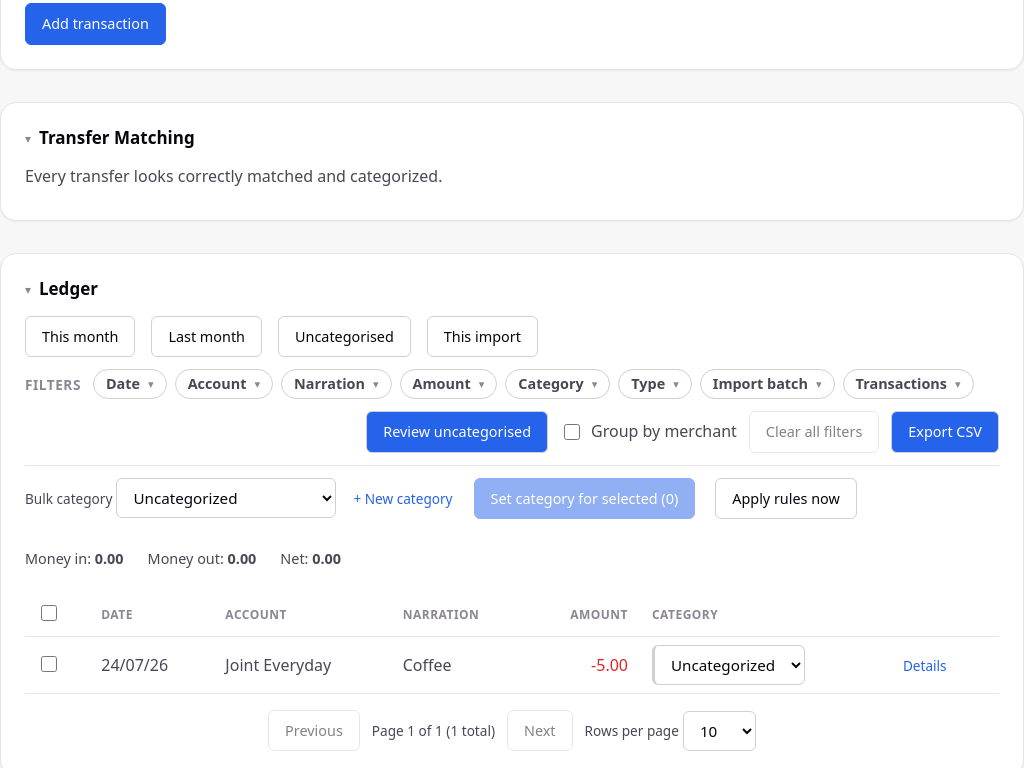
Test: TransactionsPage › filters by the shared Amount header (Debit/Credit are shown as one column)
(page scrolled)
Expected: the text "Coffee" is shown, x1=391 y1=637 x2=528 y2=694
Click the button with aria-label "Filter by Amount" at (448, 384), box x1=400 y1=369 x2=497 y2=399
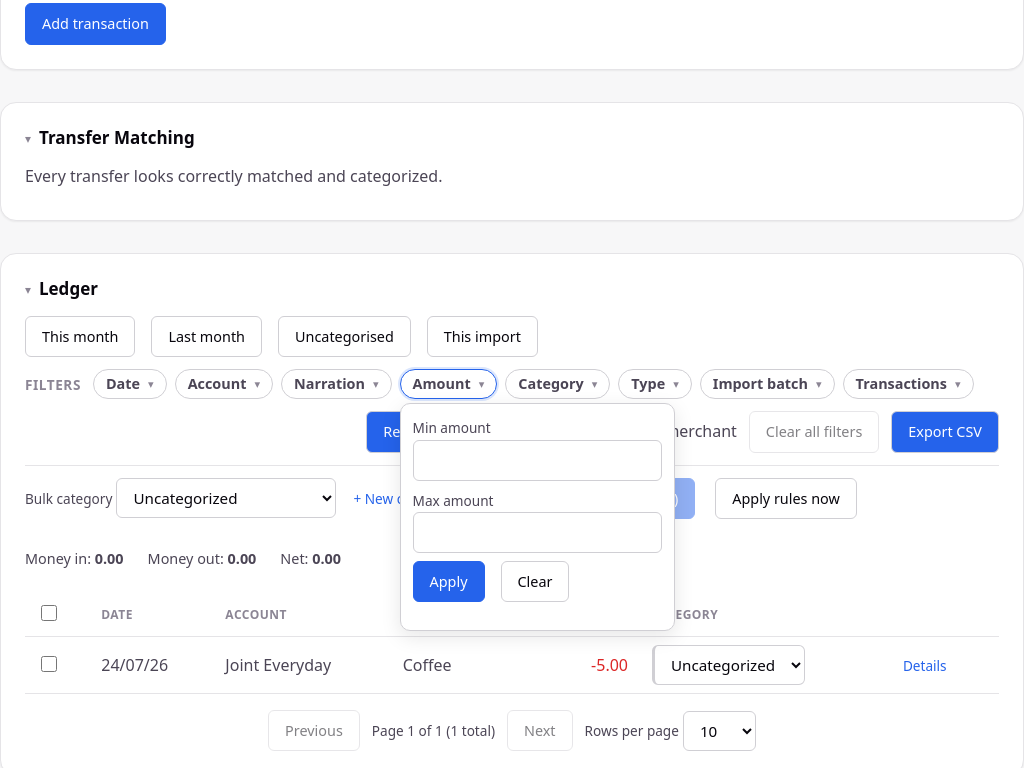
Type "10" into the number field labelled "Min amount" at (537, 460), box x1=413 y1=440 x2=662 y2=481
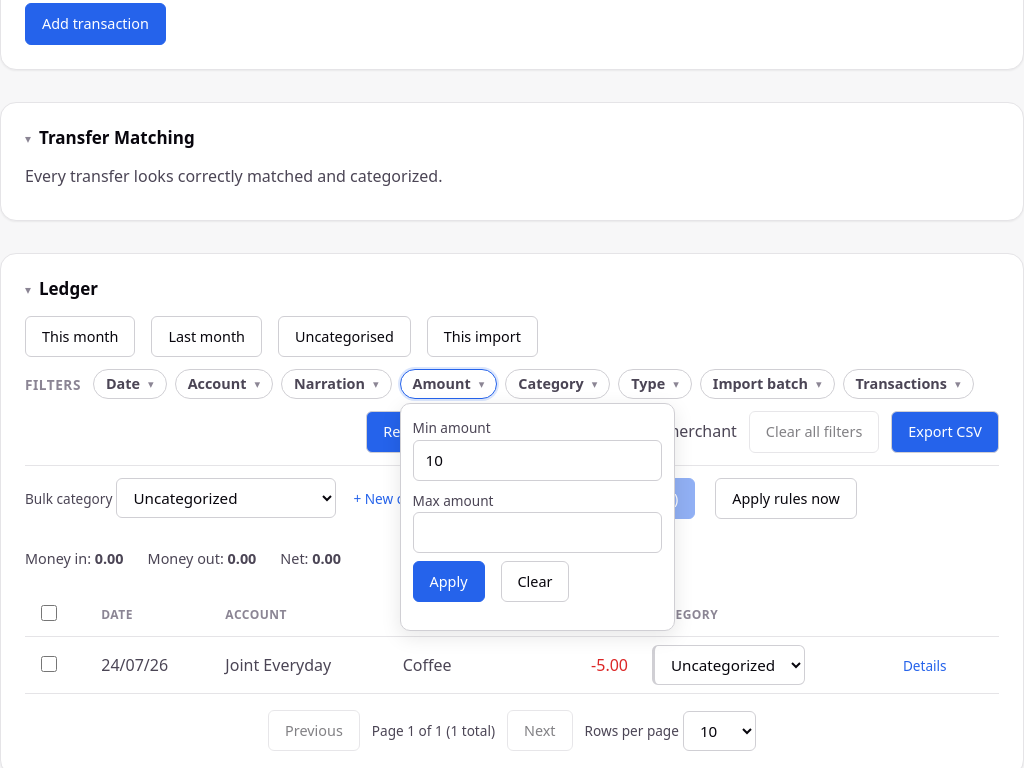
Type "50" into the number field labelled "Max amount" at (537, 532), box x1=413 y1=512 x2=662 y2=553
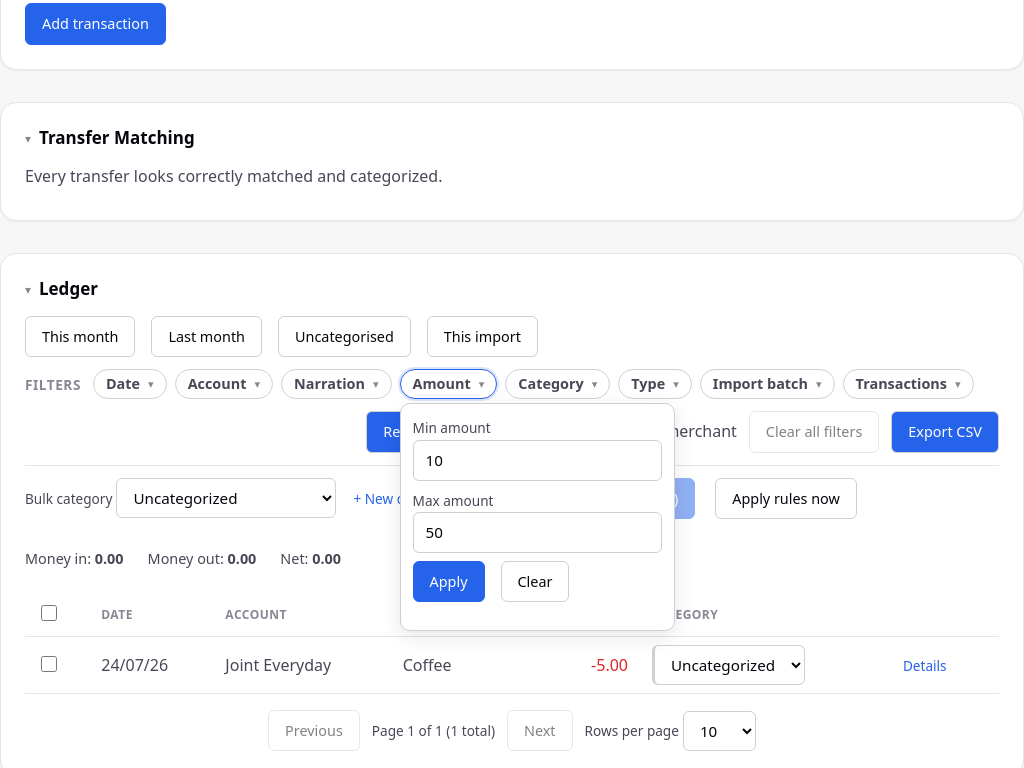
Click the button "Apply" at (449, 582), box x1=413 y1=561 x2=485 y2=602
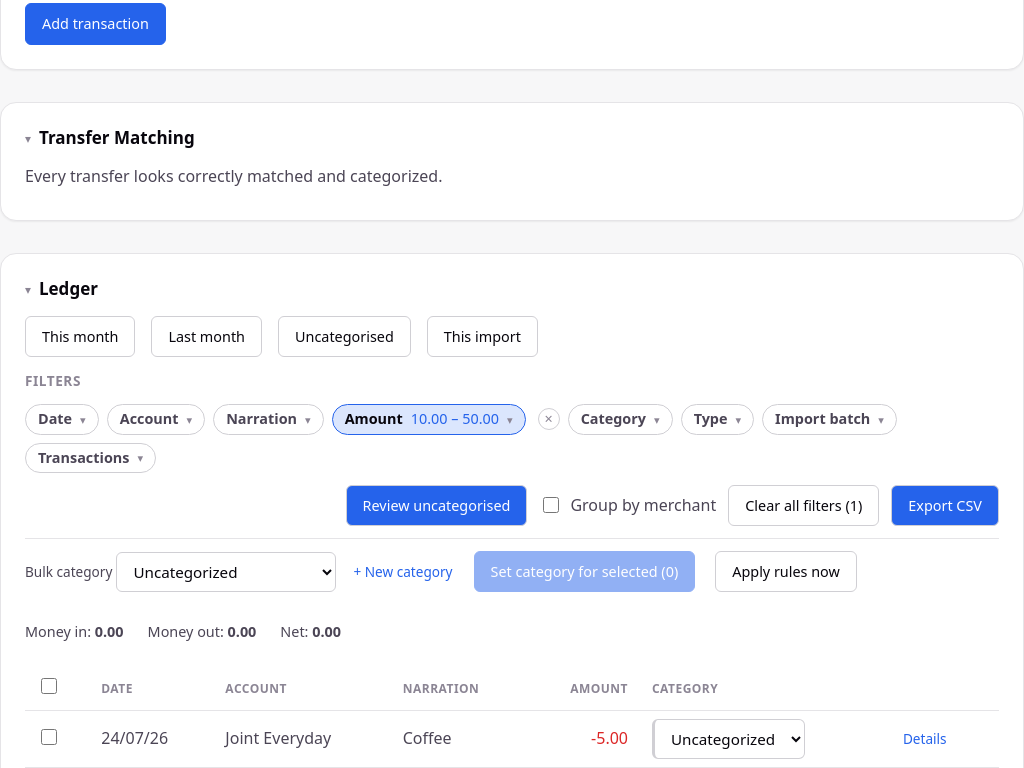
Expected: the button with aria-label "Filter by Amount" shows "10.00 – 50.00"
Click the button with aria-label "Filter by Amount" at (429, 420), box x1=332 y1=404 x2=526 y2=435
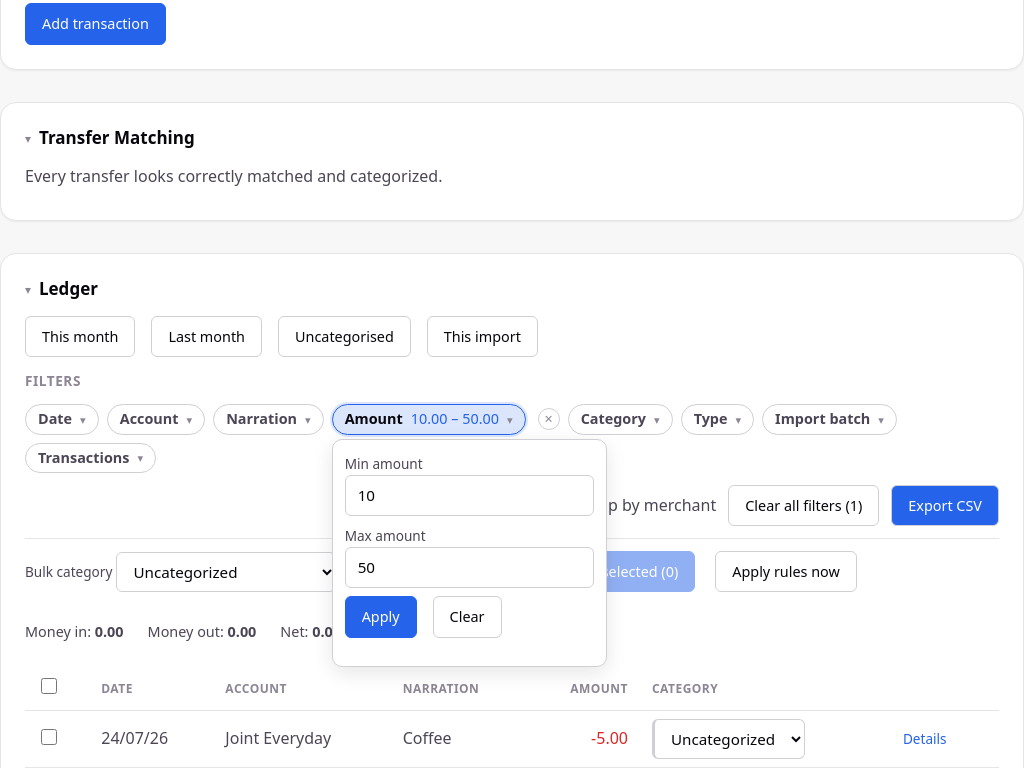
Expected: the number field labelled "Min amount" holds "10", x1=345 y1=475 x2=594 y2=516
Expected: the number field labelled "Max amount" holds "50", x1=345 y1=547 x2=594 y2=588
